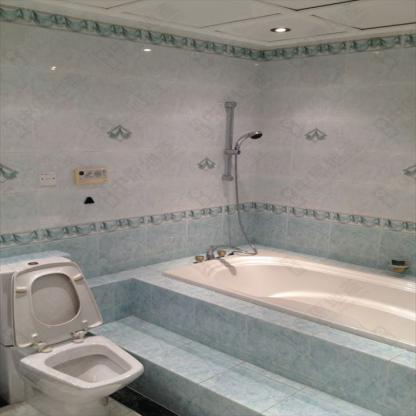Bathtub: (133, 246, 415, 414)
Toilet: (0, 255, 147, 415)
